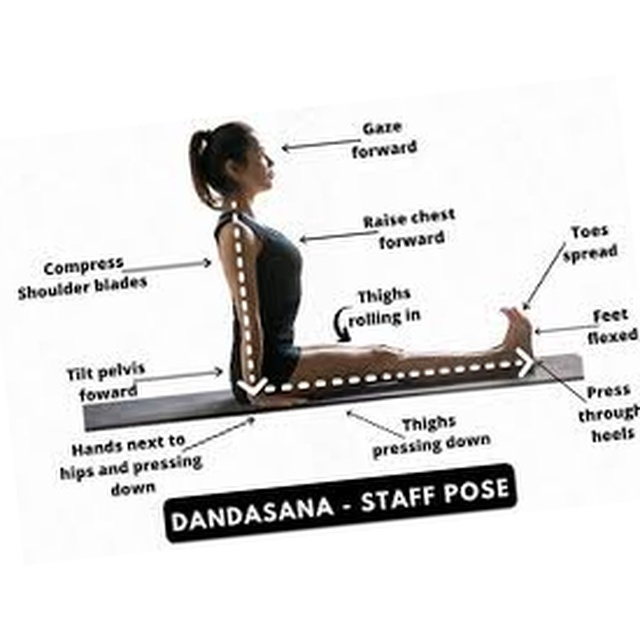Staff_Pose: (189, 123, 533, 407)
